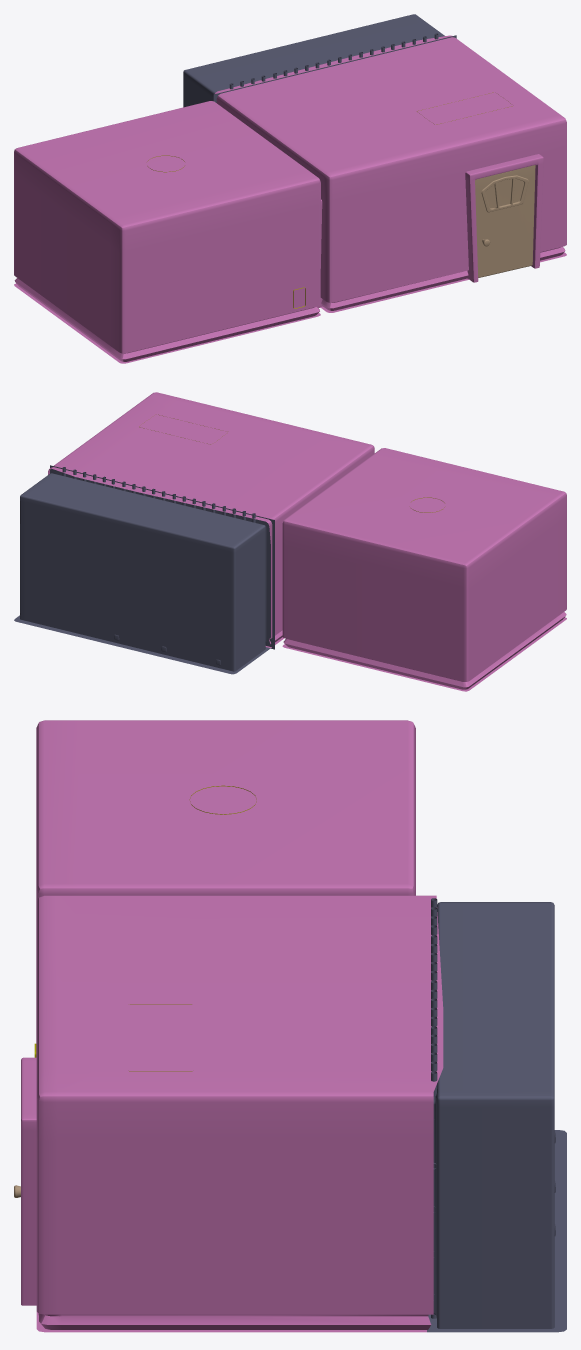
File: Police Station.fbx
3 renders of one model, top to bottom at view 1: azimuth 30°, elevation 25°; view 2: azimuth 150°, elevation 25°; view 3: azimuth 270°, elevation 25°, orthographic. The views are drawn at different scales.
Parts seen in each view (by area): view 1: Police_Room_Base, Cell_Base, ExteriorDoor; view 2: Police_Room_Base, Cell_Base; view 3: Police_Room_Base, Cell_Base.
Boxes of the visible parts, left/top/right/bottom form: Police_Room_Base: left=14, top=35, right=566, bottom=363; Cell_Base: left=183, top=14, right=456, bottom=107; ExteriorDoor: left=475, top=165, right=535, bottom=277; Police_Room_Base: left=14, top=392, right=566, bottom=691; Cell_Base: left=20, top=465, right=274, bottom=671; Police_Room_Base: left=21, top=720, right=566, bottom=1332; Cell_Base: left=431, top=898, right=554, bottom=1328.
Bounding box in the file's own units: 10.16 × 3.12 × 6.28.
